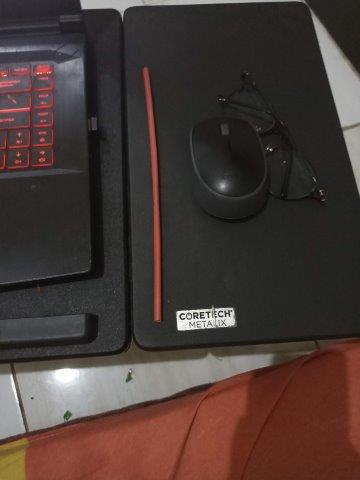sedotan: (142, 67, 161, 322)
